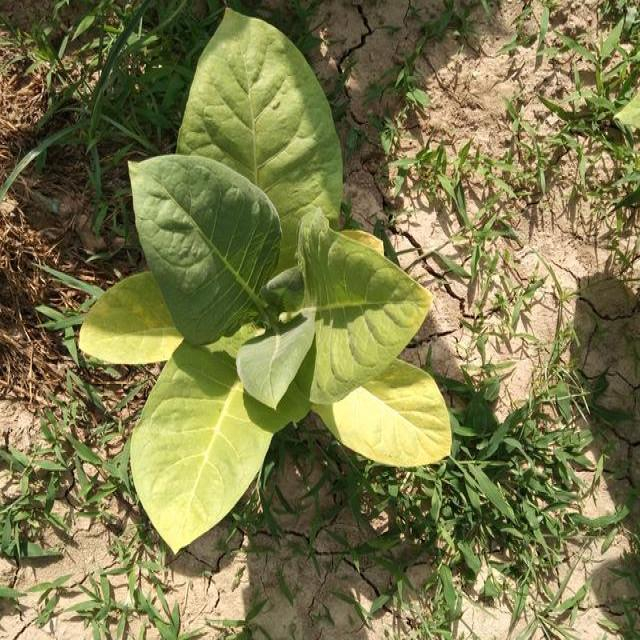crop: (74, 11, 454, 534)
